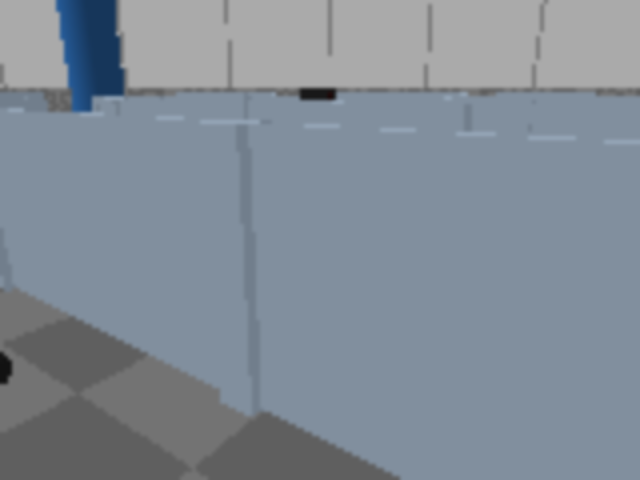puck: (0, 341, 24, 403)
